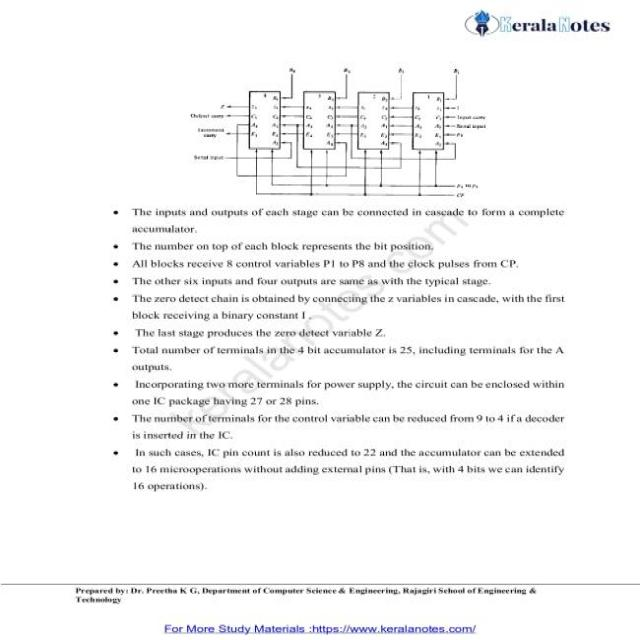Figure Detection - v3 Dataset Version2: (181, 53, 504, 204)
